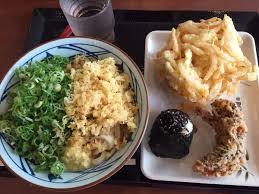kakiage: (166, 22, 247, 97)
